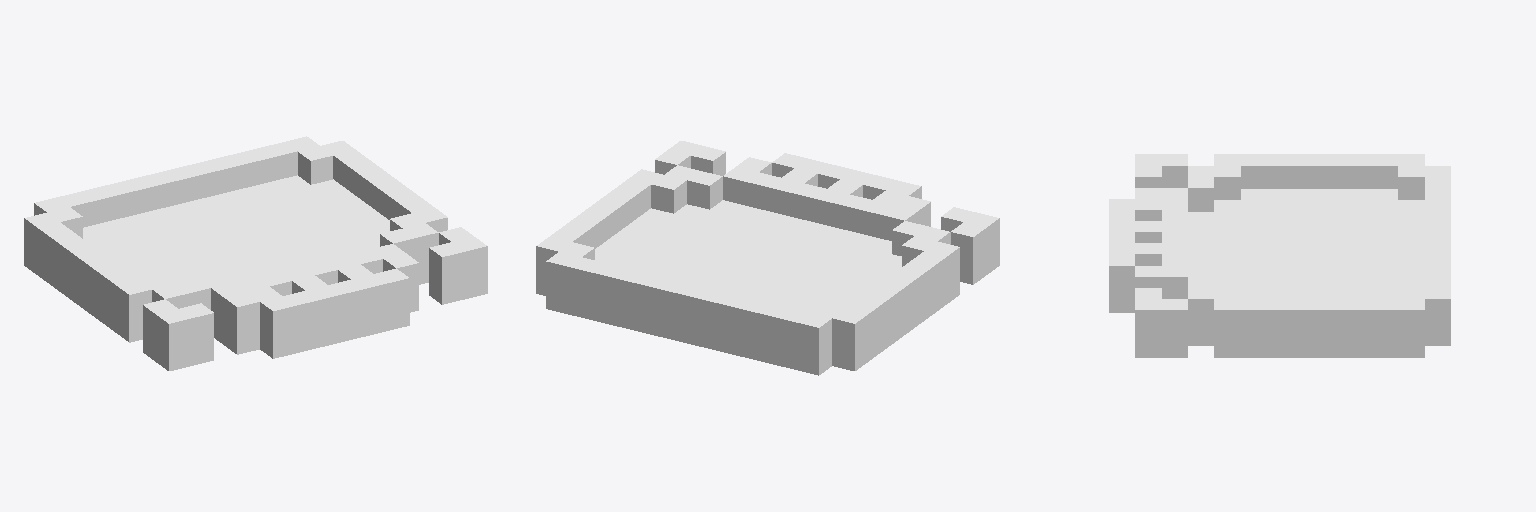
File: vid_screen-0-vid_screen.obj
3 views of the same model, side by side, from view 1: azimuth 30°, elevation 25°; view 2: azimuth 150°, elevation 25°; view 3: azimuth 270°, elevation 25° (orthographic).
Parts seen in each view (by area): view 1: vid_screen; view 2: vid_screen; view 3: vid_screen.
Part boxes in pixels (x1,y1,x2,y2): vid_screen: (24, 136, 487, 370); vid_screen: (536, 141, 999, 375); vid_screen: (1109, 154, 1450, 357).
Size of the model in its own units: 1.4 by 0.2 by 1.3.